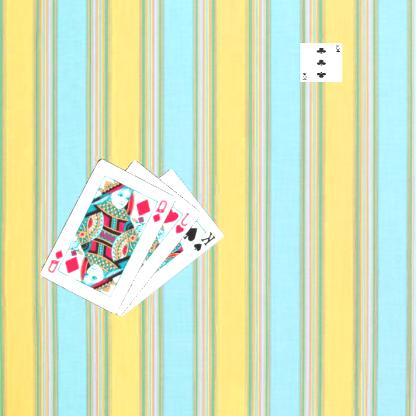JH: (175, 210, 193, 235)
KS: (193, 229, 219, 253)
QD: (47, 247, 67, 274), (152, 197, 171, 224)
